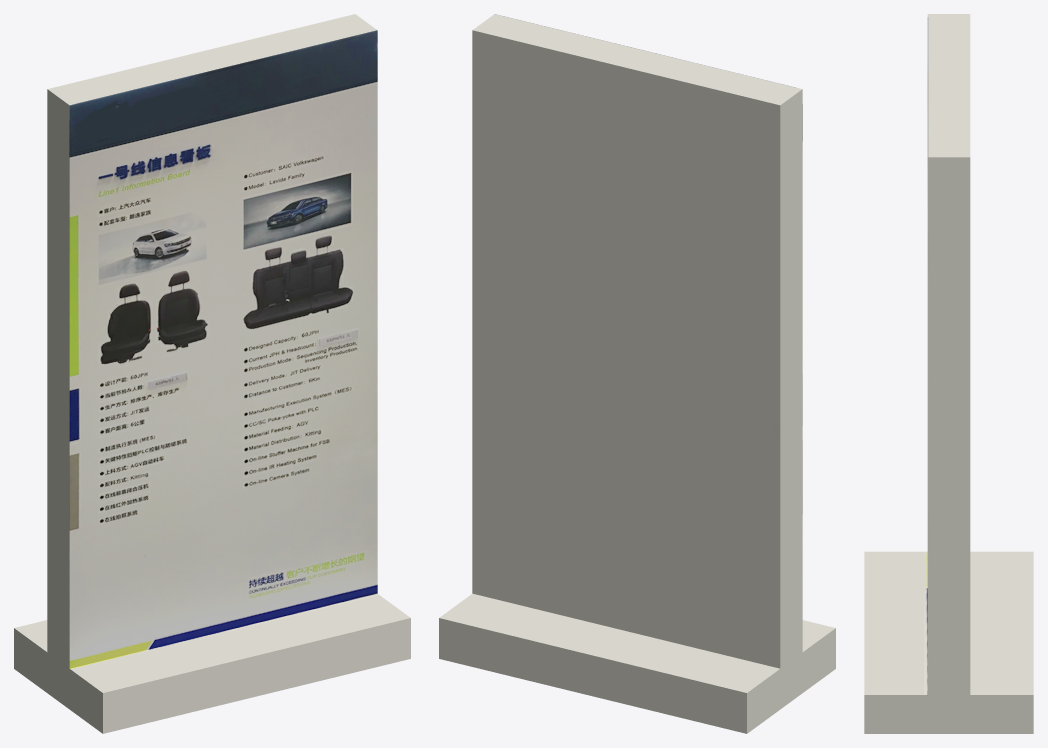
Rendered from zhanban.FBX.
The picture shows the model from 3 angles, left to right: view 1: azimuth 30°, elevation 25°; view 2: azimuth 150°, elevation 25°; view 3: azimuth 270°, elevation 25°; orthographic projection. The views are drawn at different scales.
Visible parts, largest first — view 1: YF_Model_zhanban; view 2: YF_Model_zhanban; view 3: YF_Model_zhanban.
Part boxes in pixels (x1=…): YF_Model_zhanban: x1=14, y1=14, x2=410, y2=733; YF_Model_zhanban: x1=439, y1=14, x2=835, y2=733; YF_Model_zhanban: x1=864, y1=14, x2=1033, y2=733.
Bounding box in the file's own units: 80 × 150 × 40.
Materials: 1 (1 with a texture image).
